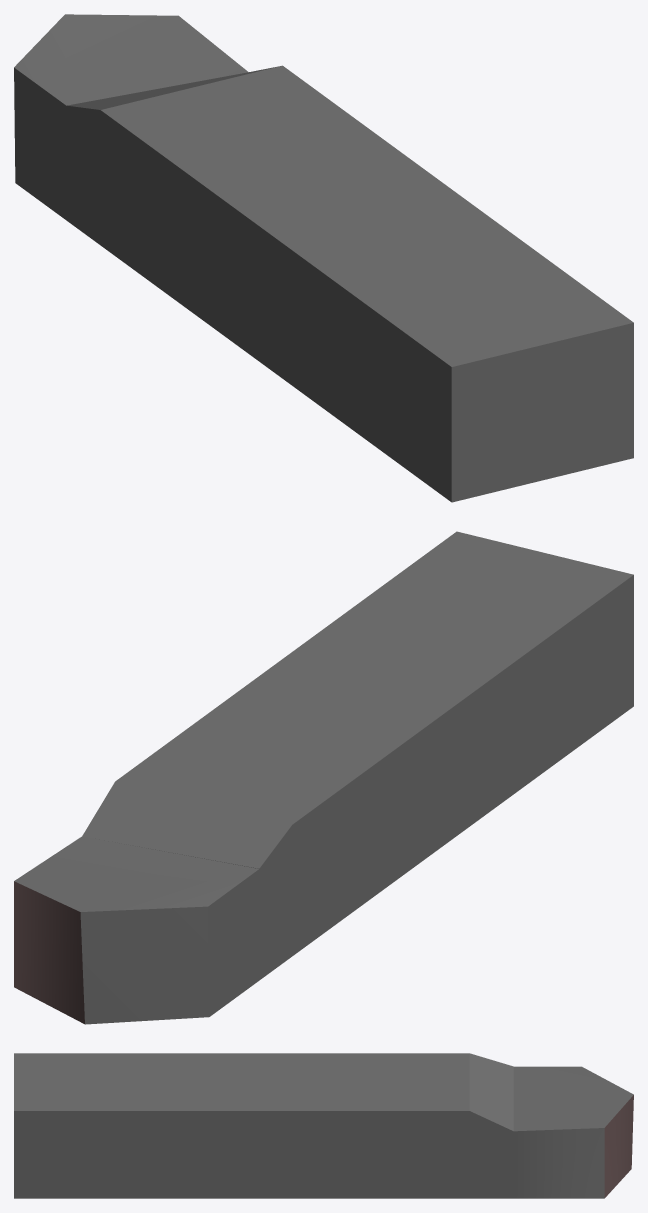
The model's file is renqinjiao03.FBX.
The picture shows the model from 3 angles, top to bottom: view 1: azimuth 30°, elevation 25°; view 2: azimuth 150°, elevation 25°; view 3: azimuth 270°, elevation 25°; orthographic projection. The views are drawn at different scales.
Parts seen in each view (by area): view 1: 车刀构造; view 2: 车刀构造; view 3: 车刀构造.
Boxes of the visible parts, bbox=[...] form: 车刀构造: bbox=[14, 14, 633, 502]; 车刀构造: bbox=[14, 531, 633, 1024]; 车刀构造: bbox=[14, 1053, 633, 1198].
Bounding box in the file's own units: 19.45 × 88.4 × 13.82.
